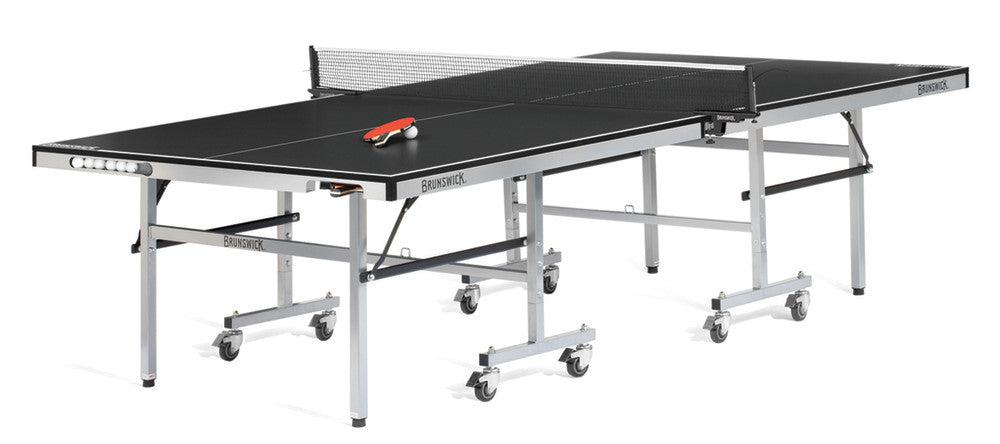ball_pingpong: (404, 124, 419, 139)
